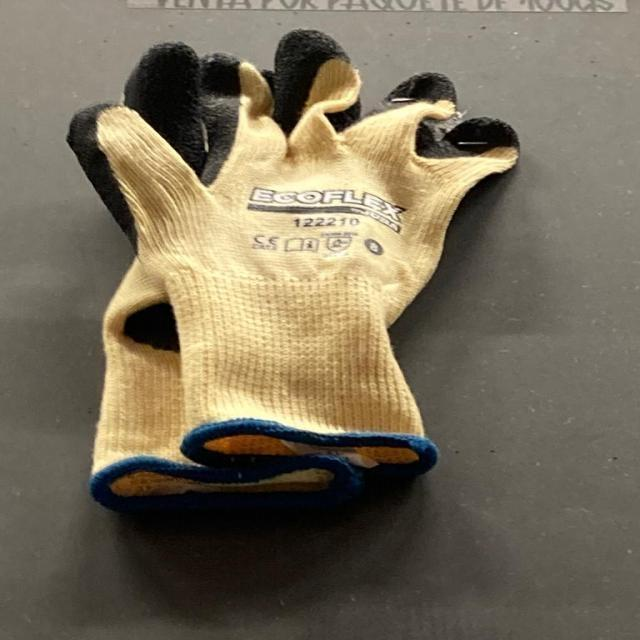glove: (66, 27, 520, 512)
